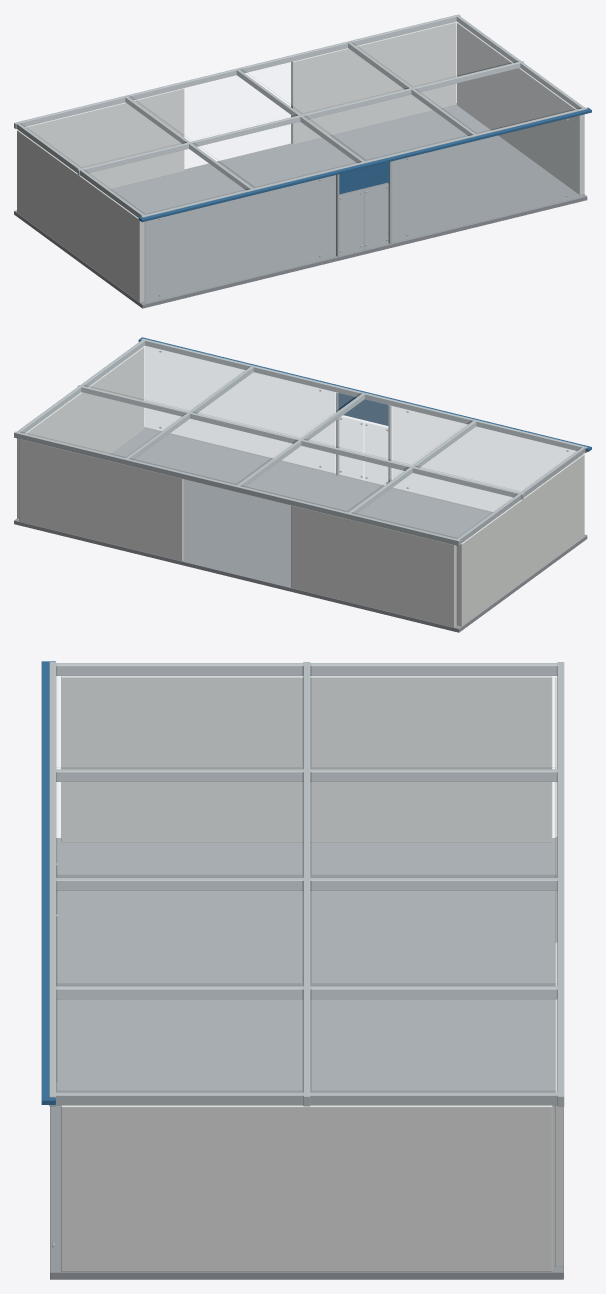
Rendered from squash-club-and-racket-workshop-club-entrance-building-475ac4c8__29785.glb.
3 renders of one model, top to bottom at view 1: azimuth 30°, elevation 25°; view 2: azimuth 150°, elevation 25°; view 3: azimuth 270°, elevation 25°, orthographic. The views are drawn at different scales.
Visible parts, largest first — view 1: club-entrance-building; view 2: club-entrance-building; view 3: club-entrance-building.
Part boxes in pixels (<box>): club-entrance-building: <box>14,14,591,308</box>; club-entrance-building: <box>14,337,591,632</box>; club-entrance-building: <box>41,661,564,1279</box>.
Size of the model in its own units: 18.2 by 3.59 by 9.16.
